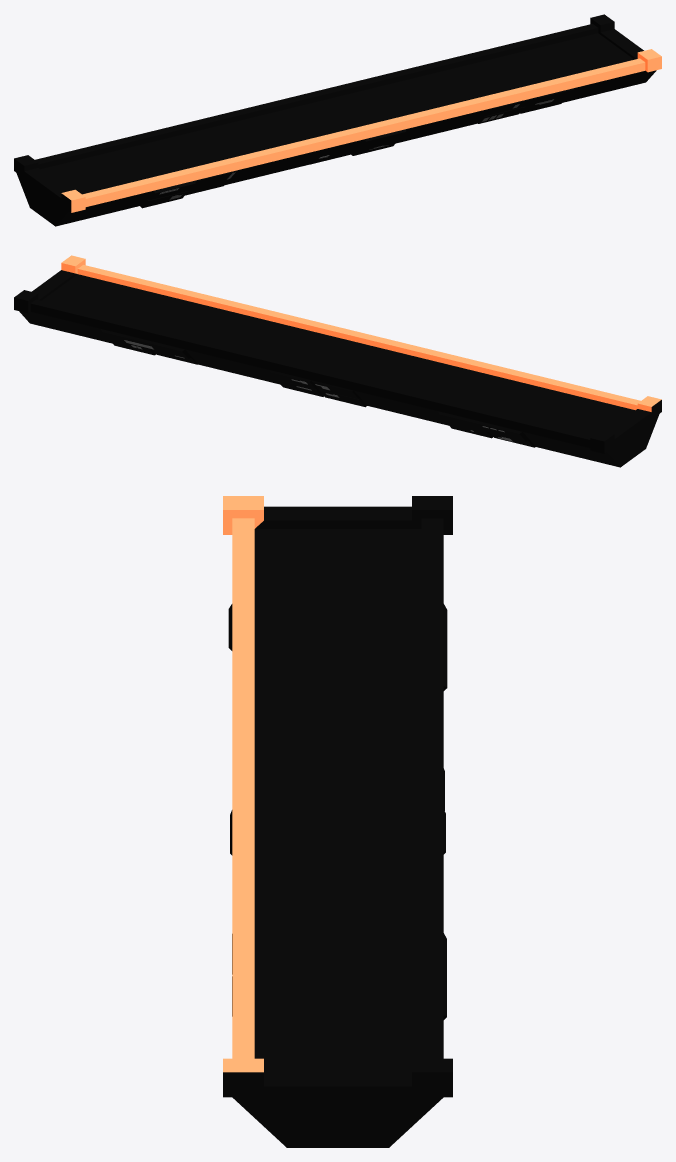
The model's file is SpaceTrottoir.fbx.
The picture shows the model from 3 angles, top to bottom: view 1: azimuth 30°, elevation 25°; view 2: azimuth 150°, elevation 25°; view 3: azimuth 270°, elevation 25°; orthographic projection. The views are drawn at different scales.
Visible parts, largest first — view 1: Object009; view 2: Object009; view 3: Object009.
Part boxes in pixels (<box>): Object009: <box>14,14,661,226</box>; Object009: <box>14,255,661,467</box>; Object009: <box>223,496,452,1147</box>.
Bounding box in the file's own units: 2123 × 135 × 358.
